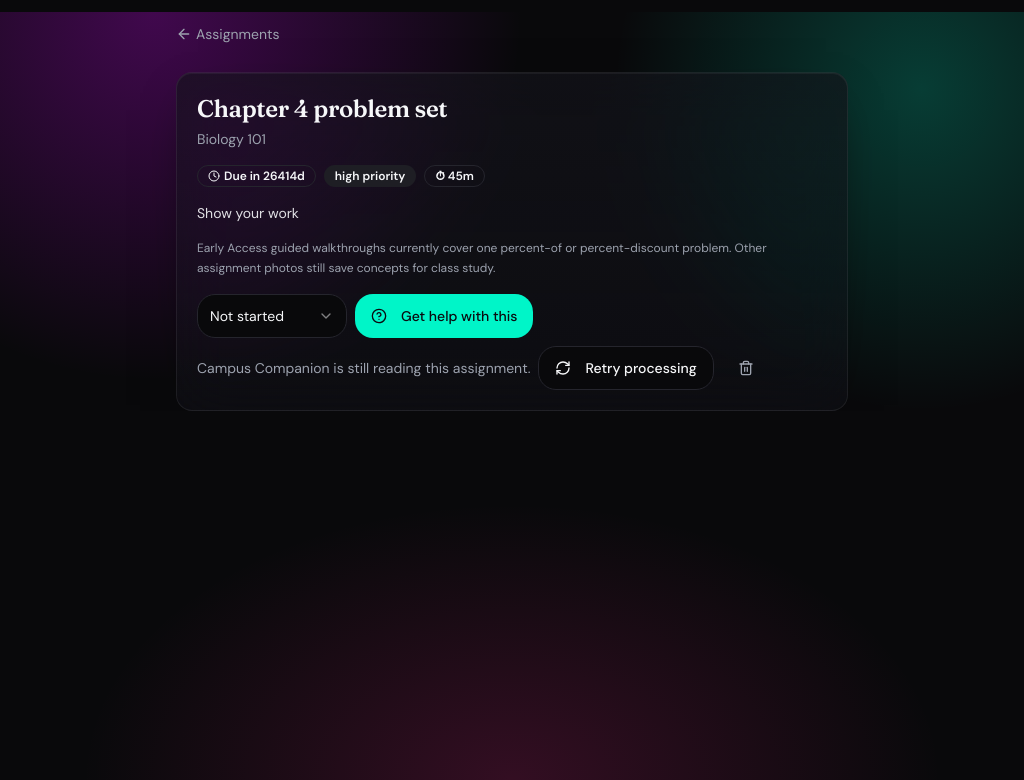
Test: RealAssignmentDetail › shows processing truthfully and turns ready after a successful retry
Expected: the text "Campus Companion is still reading this assignment." is shown, 197,358 -> 530,378
Click the button "Retry processing".
click(626, 368)  # box 538,346 -> 714,390
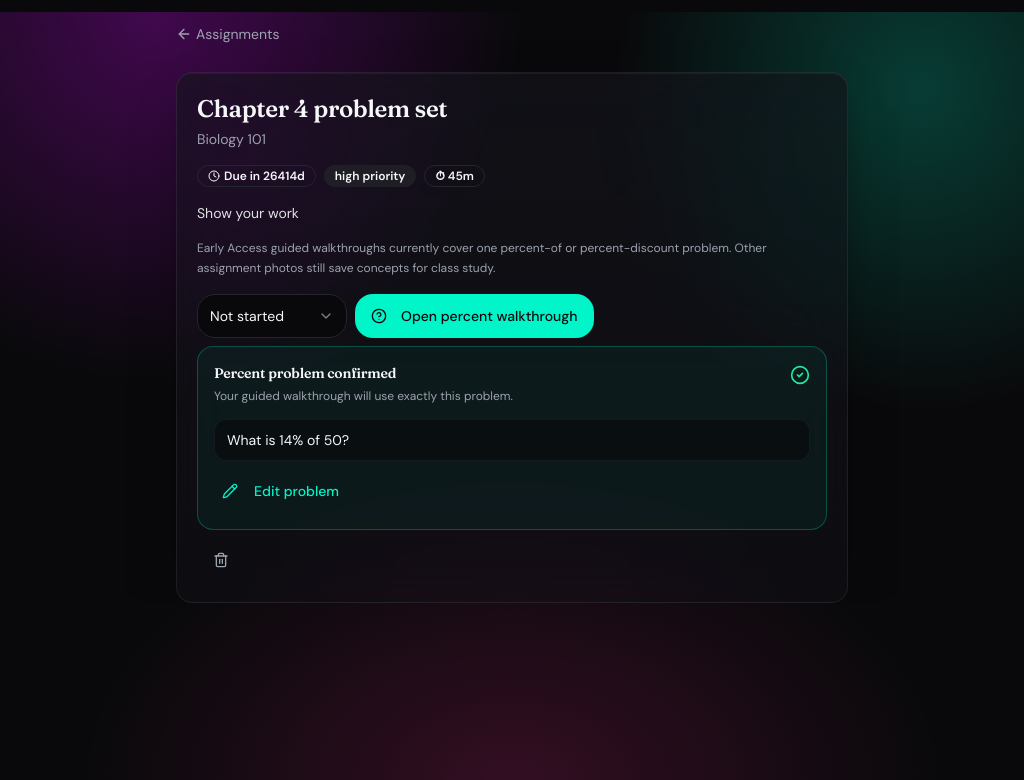
Expected: the button "Open percent walkthrough" is shown, 355,294 -> 594,338
